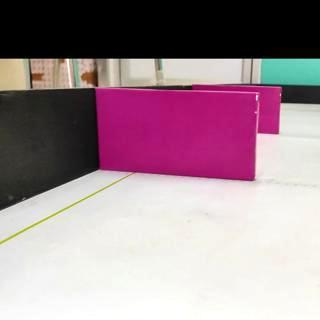xparking: (100, 94, 254, 180), (260, 88, 278, 130)
